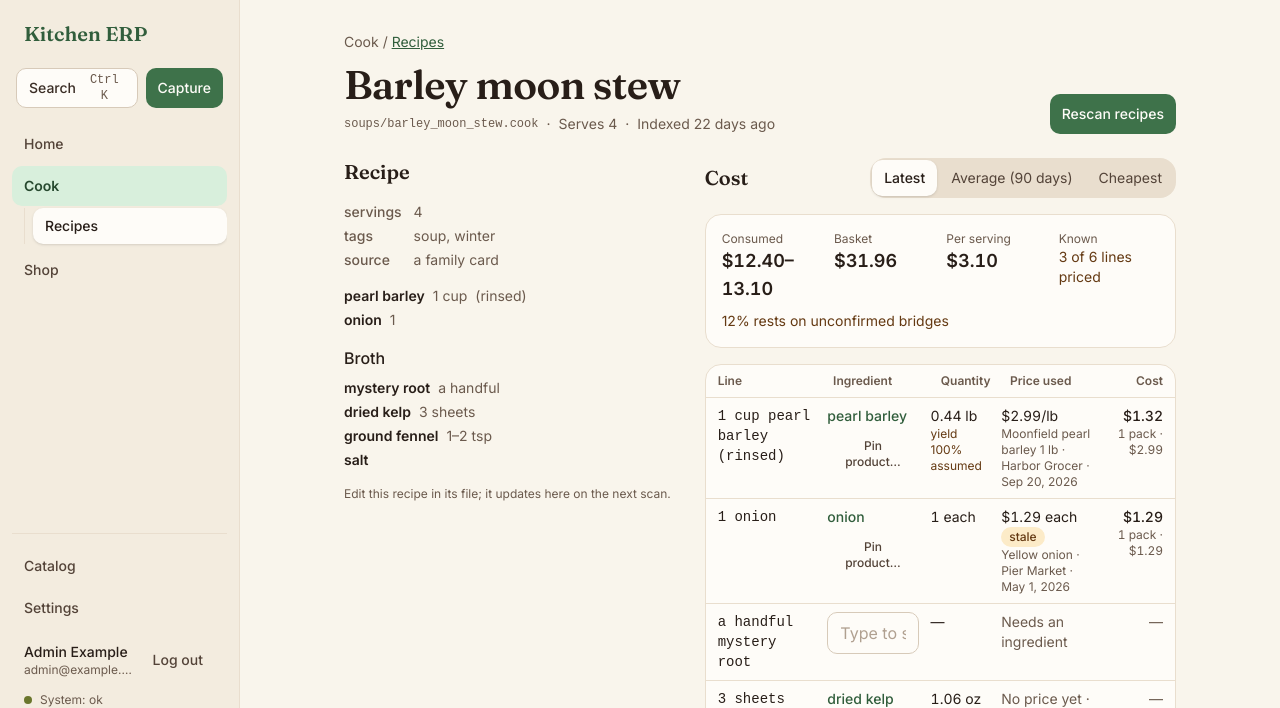
Test: the cost table's ingredient picker (UI-7.10, criterion 28) › resolves an unmapped line from its combobox, refreshes the cost and shows the Notice
Step 1. Type "celery" into the dropdown named "Choose an ingredient" → [873, 633], box [827, 612, 919, 654]
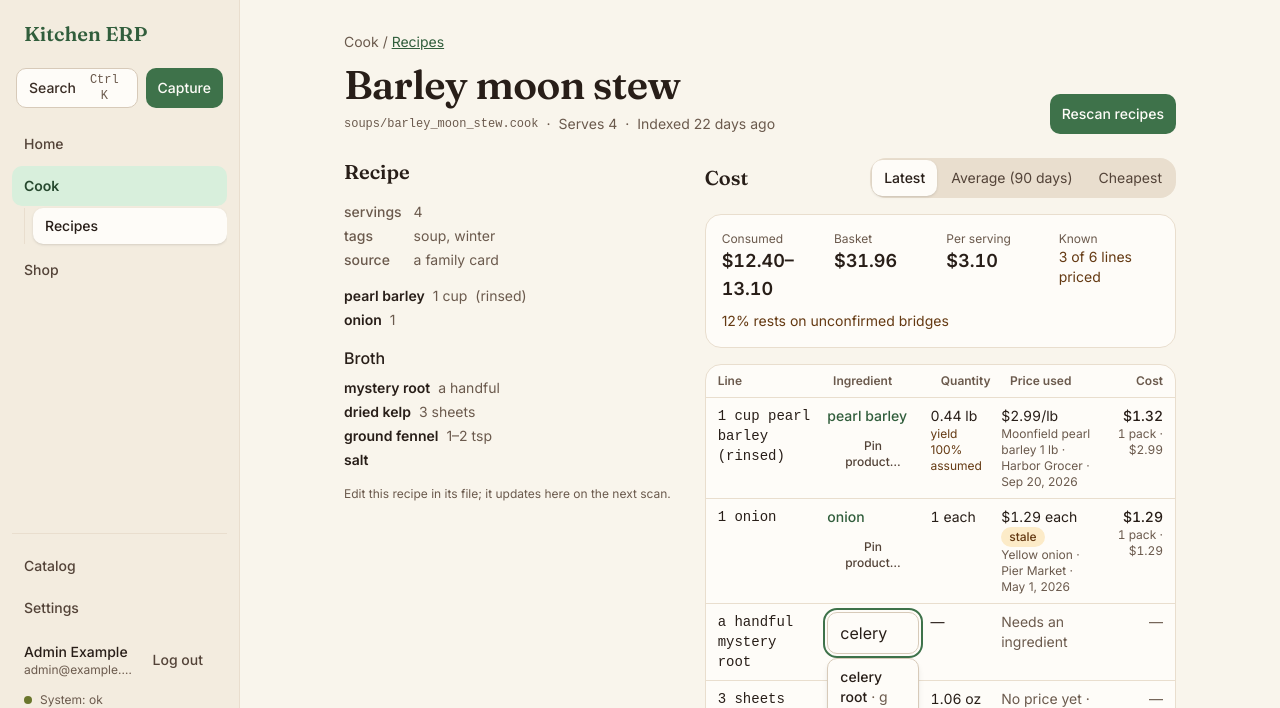
Now the option "celery root · g" is shown, box [840, 668, 888, 705]
Step 2. Press Arrowdown Enter
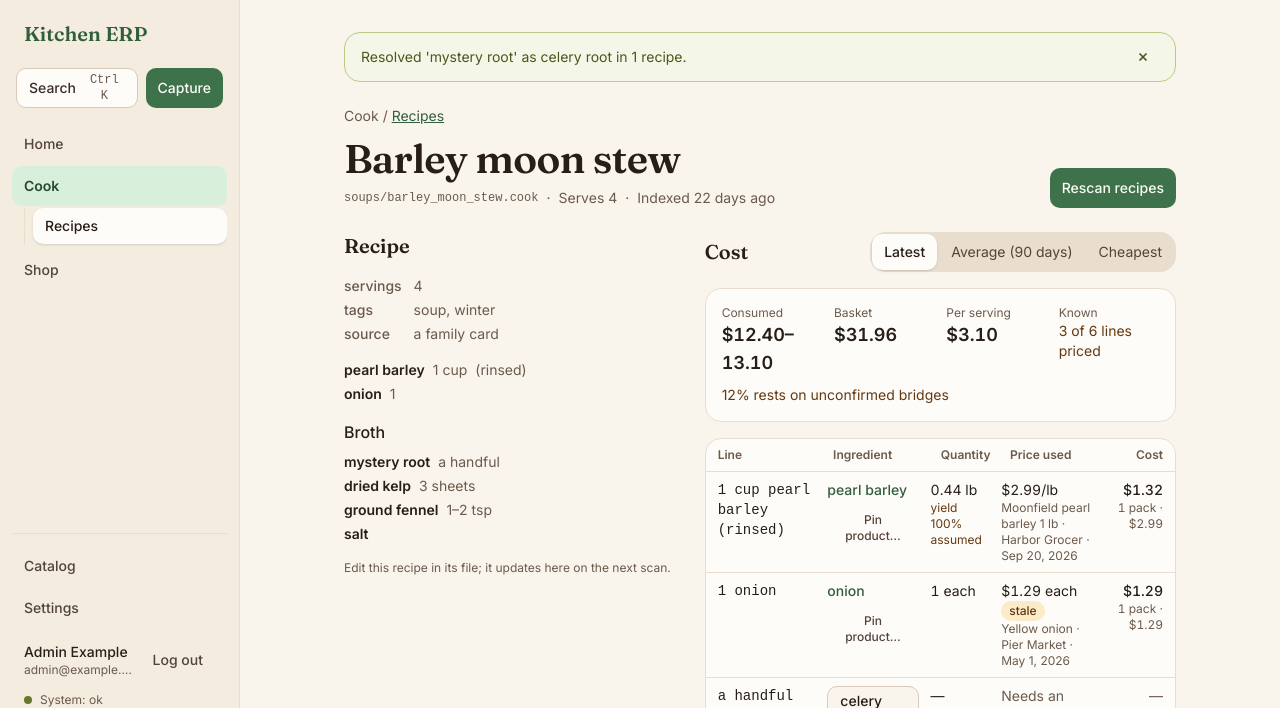
Now the message with test id "notice" reads "Resolved 'mystery root' as celery root in 1 recipe.", box [361, 48, 687, 65]
